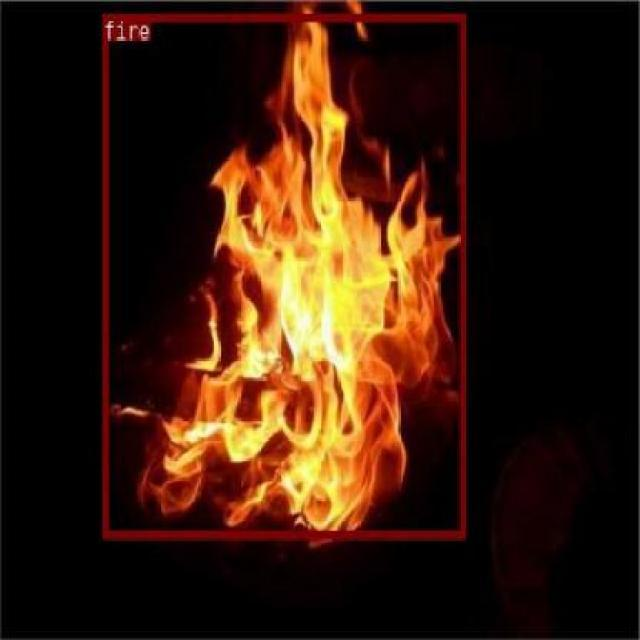Fire: (101, 13, 464, 538)
